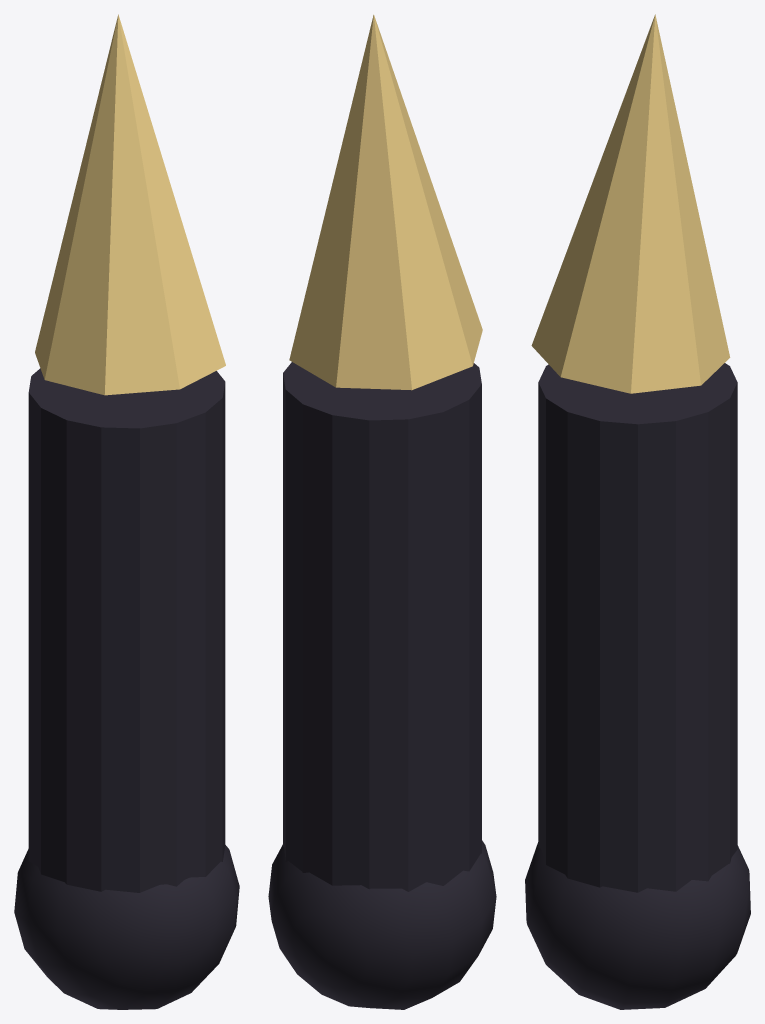
The model's file is SM_Keeper_Wepwawet_Tail.fbx.
The picture shows the model from 3 angles, left to right: view 1: azimuth 30°, elevation 25°; view 2: azimuth 150°, elevation 25°; view 3: azimuth 270°, elevation 25°; orthographic projection.
Visible parts, largest first — view 1: SM_Keeper_Wepwawet_Tail; view 2: SM_Keeper_Wepwawet_Tail; view 3: SM_Keeper_Wepwawet_Tail.
Boxes of the visible parts, x1=… form: SM_Keeper_Wepwawet_Tail: x1=14, y1=14, x2=239, y2=1009; SM_Keeper_Wepwawet_Tail: x1=268, y1=14, x2=496, y2=1009; SM_Keeper_Wepwawet_Tail: x1=525, y1=14, x2=750, y2=1009.
Size of the model in its own units: 0.368 by 1.75 by 0.363.
